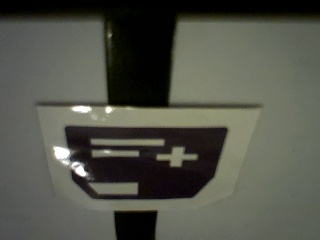Supply_Station: (64, 125, 229, 200)
